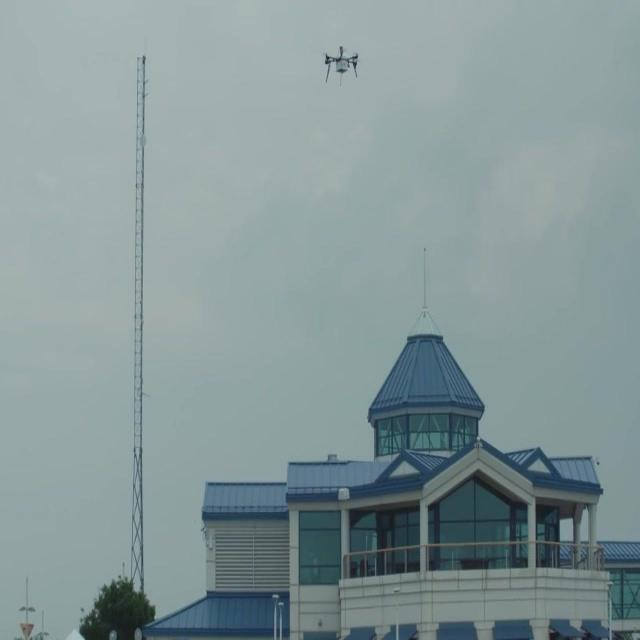drone: (322, 42, 362, 88)
